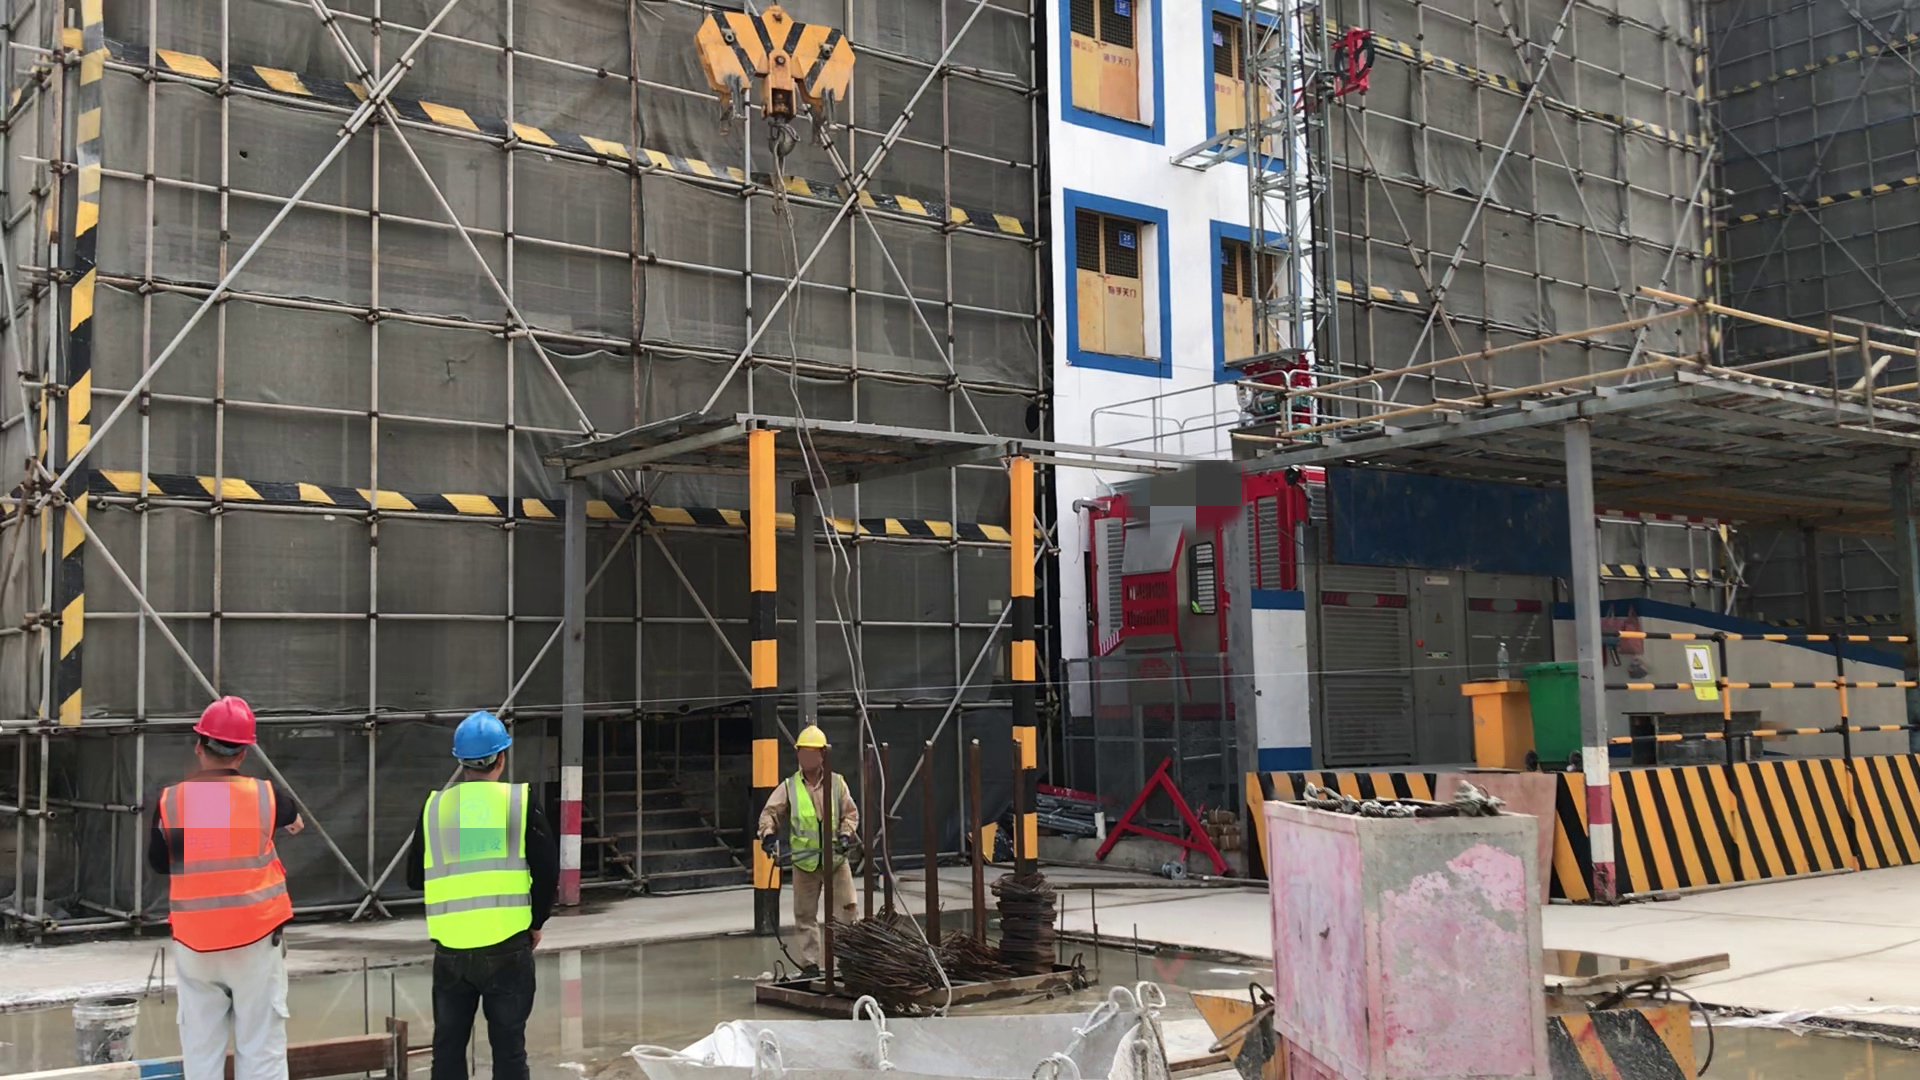helmet: (195, 697, 265, 750), (454, 708, 514, 760), (795, 720, 829, 750)
hook: (694, 10, 859, 155)
hopper: (620, 1001, 1140, 1080)
person: (152, 694, 311, 1080), (414, 706, 551, 1080), (754, 719, 864, 976)
slogan: (1683, 646, 1728, 712)
vest: (161, 771, 292, 958), (422, 780, 536, 943), (787, 769, 841, 876)
